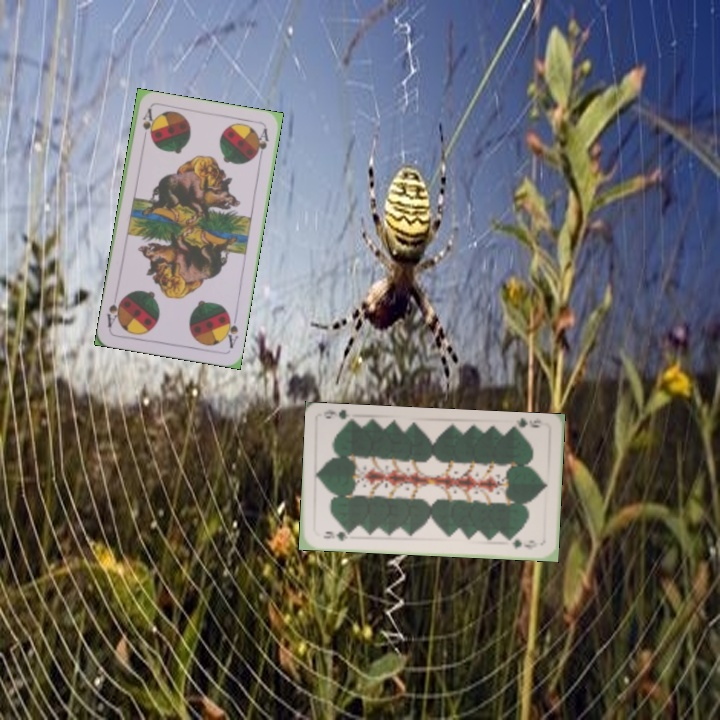G9: (508, 415, 543, 435), (319, 527, 355, 543)
SA: (221, 310, 240, 351), (139, 105, 155, 145)
